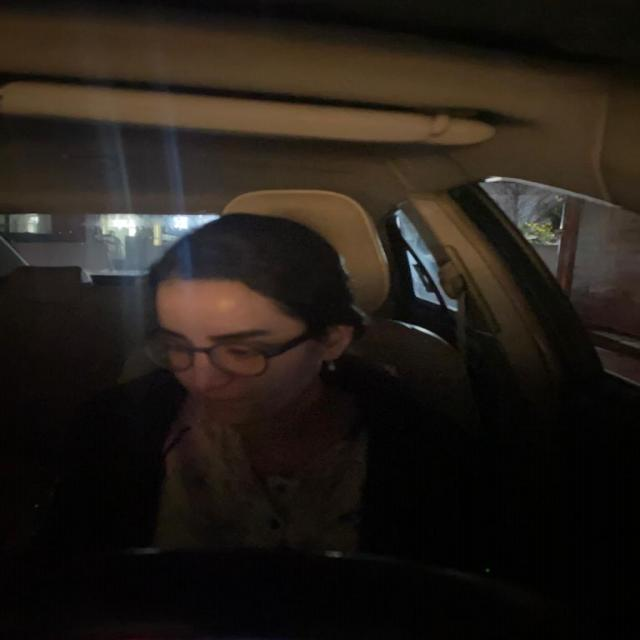person: (142, 225, 354, 426)
